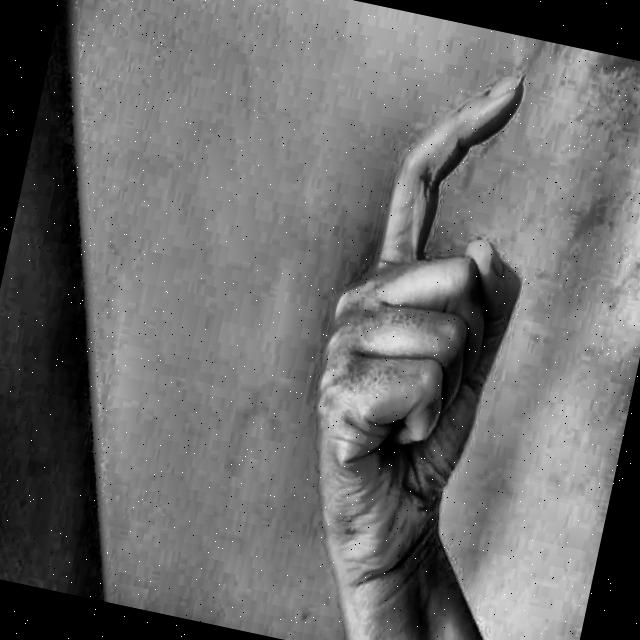E: (264, 26, 588, 603)
